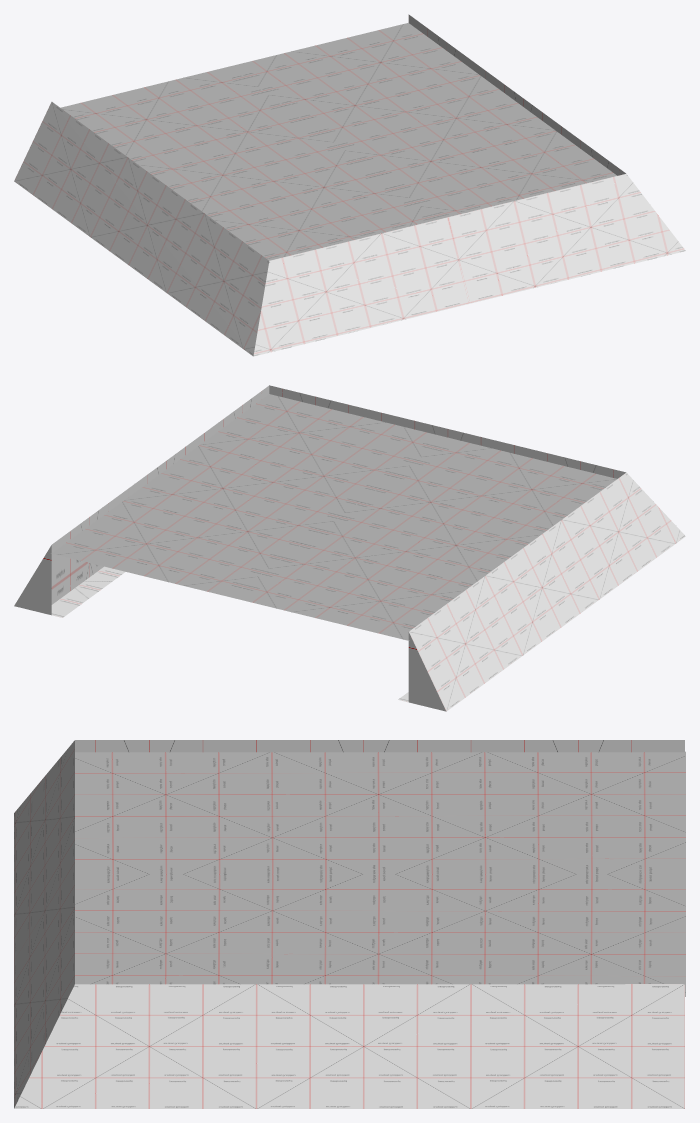
Rendered from R_sh_01_3x_close.FBX.
3 views of the same model, one above another, from view 1: azimuth 30°, elevation 25°; view 2: azimuth 150°, elevation 25°; view 3: azimuth 270°, elevation 25° (orthographic). The views are drawn at different scales.
Parts seen in each view (by area): view 1: R_sh_01_3x_close; view 2: R_sh_01_3x_close; view 3: R_sh_01_3x_close.
Part boxes in pixels (x1=…): R_sh_01_3x_close: x1=14, y1=14, x2=685, y2=356; R_sh_01_3x_close: x1=14, y1=385, x2=685, y2=711; R_sh_01_3x_close: x1=14, y1=740, x2=685, y2=1108.
Size of the model in its own units: 65.35 by 62.76 by 10.2.
